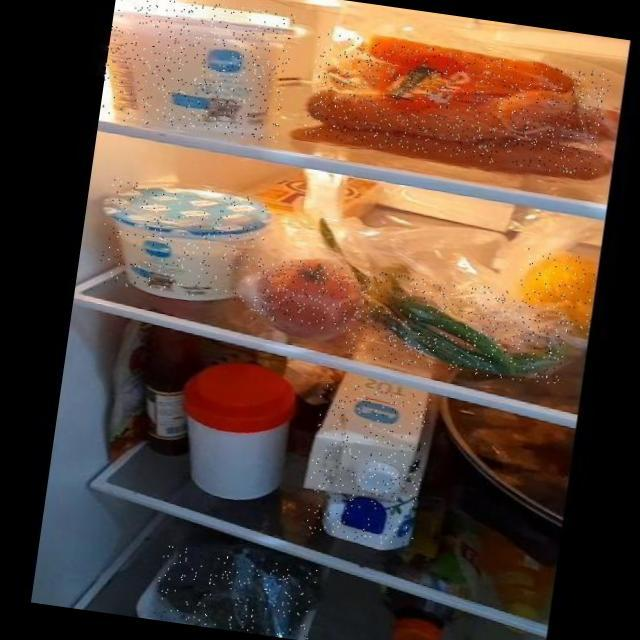Brocoli: (153, 546, 320, 640)
Limón: (513, 248, 601, 336)
Yogur: (97, 0, 295, 143), (97, 177, 270, 304)
Zanahoria: (304, 33, 612, 178)
green chilies: (343, 268, 572, 386)
milk: (301, 382, 433, 548)
tomato paste: (250, 255, 361, 333)
